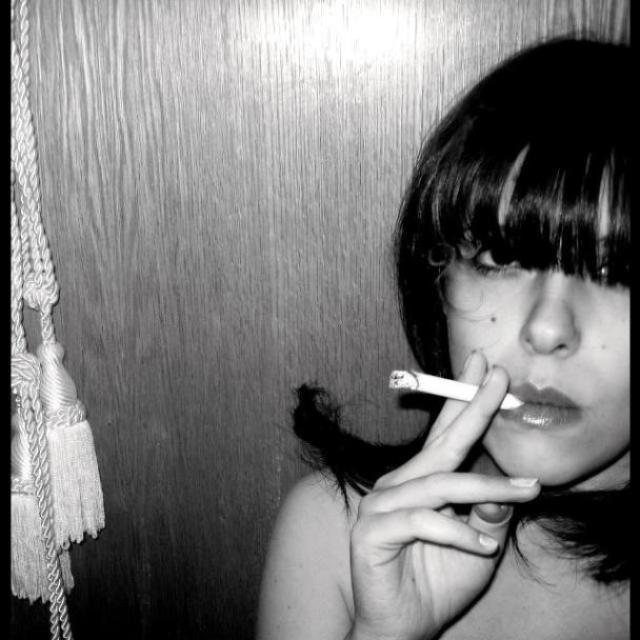rokok: (382, 358, 524, 417)
